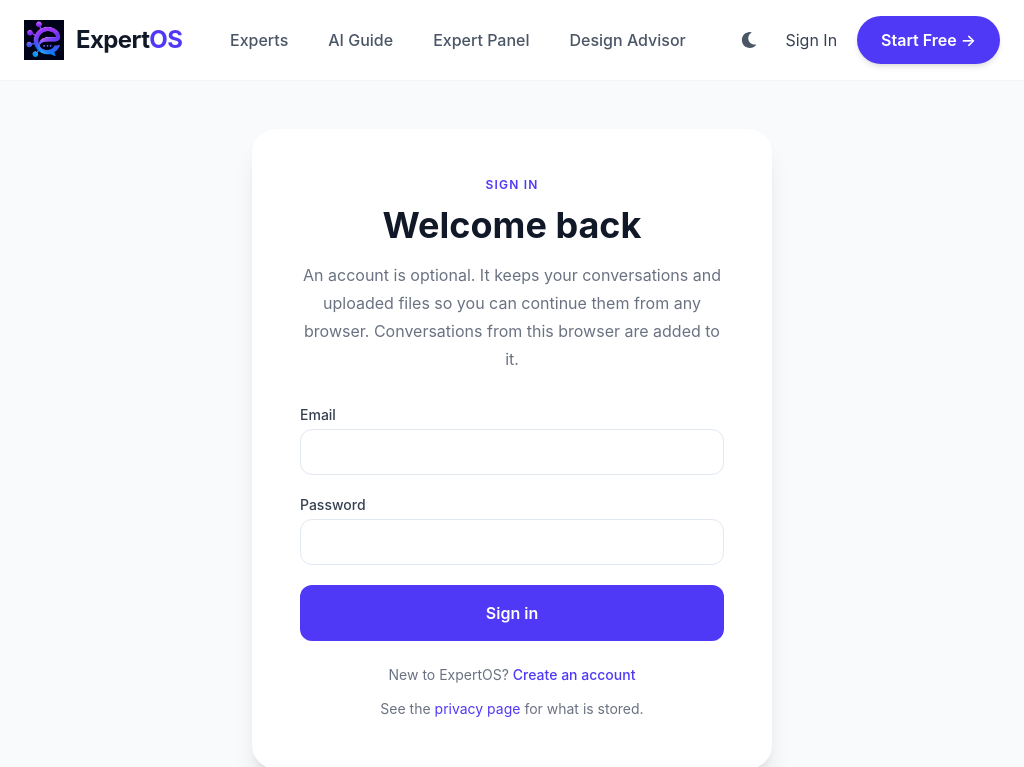
Test: Accounts › shows the server's error for a wrong password
The width and height of the screenshot is (1024, 767).
In the field labelled "Email": (512, 452) [300,429,724,475], type "ana@example.com"
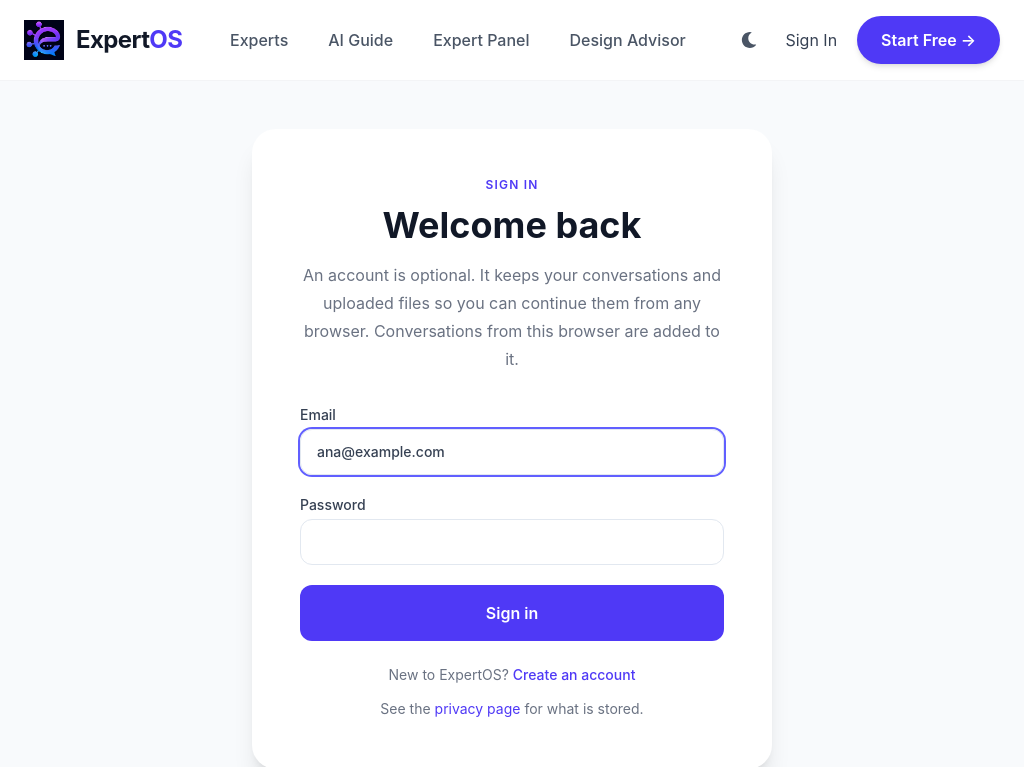
In the password field labelled "Password": (512, 542) [300,519,724,565], type "wrong"
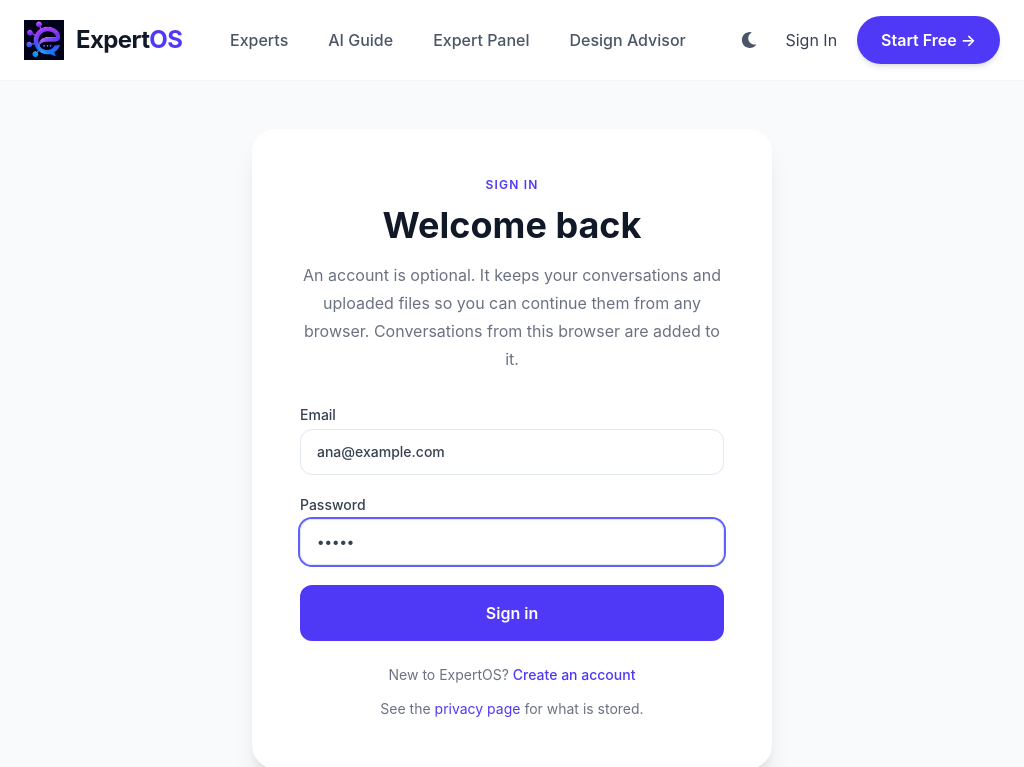
Click the button "Sign in": (512, 613) [300,585,724,641]
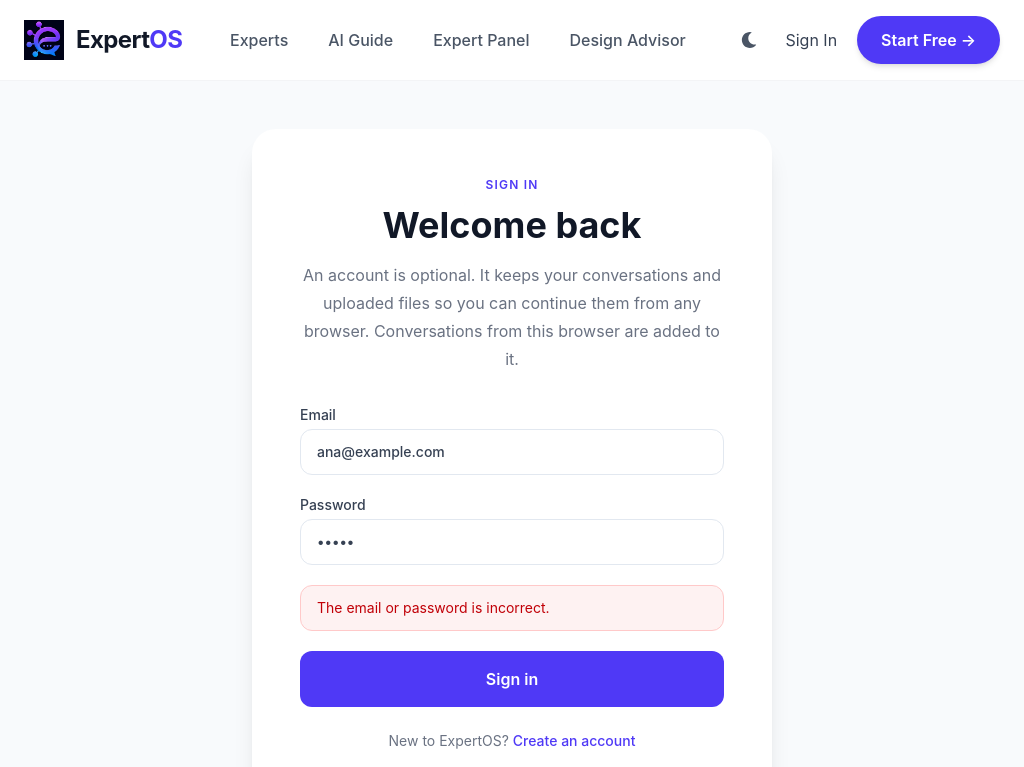
expect the message reads "The email or password is incorrect.": met, box [317,599,550,616]
